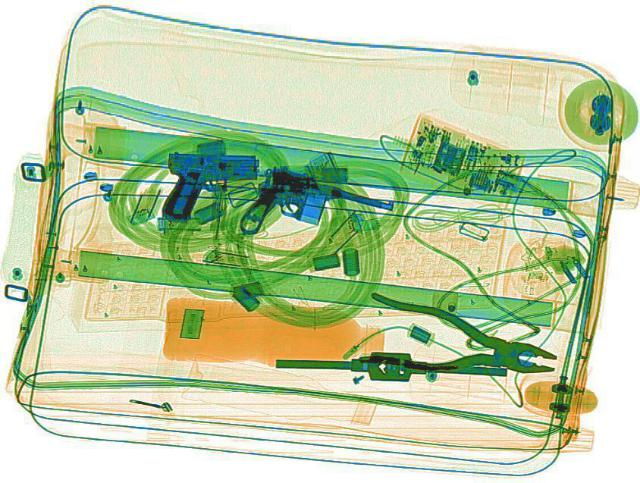Gun: (238, 164, 402, 259), (160, 151, 258, 222)
Pliers: (342, 289, 570, 397)
